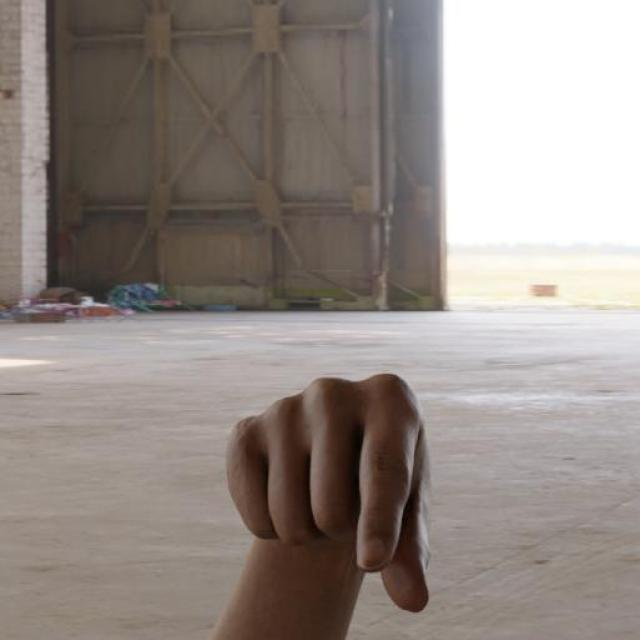Q: (220, 363, 446, 632)
